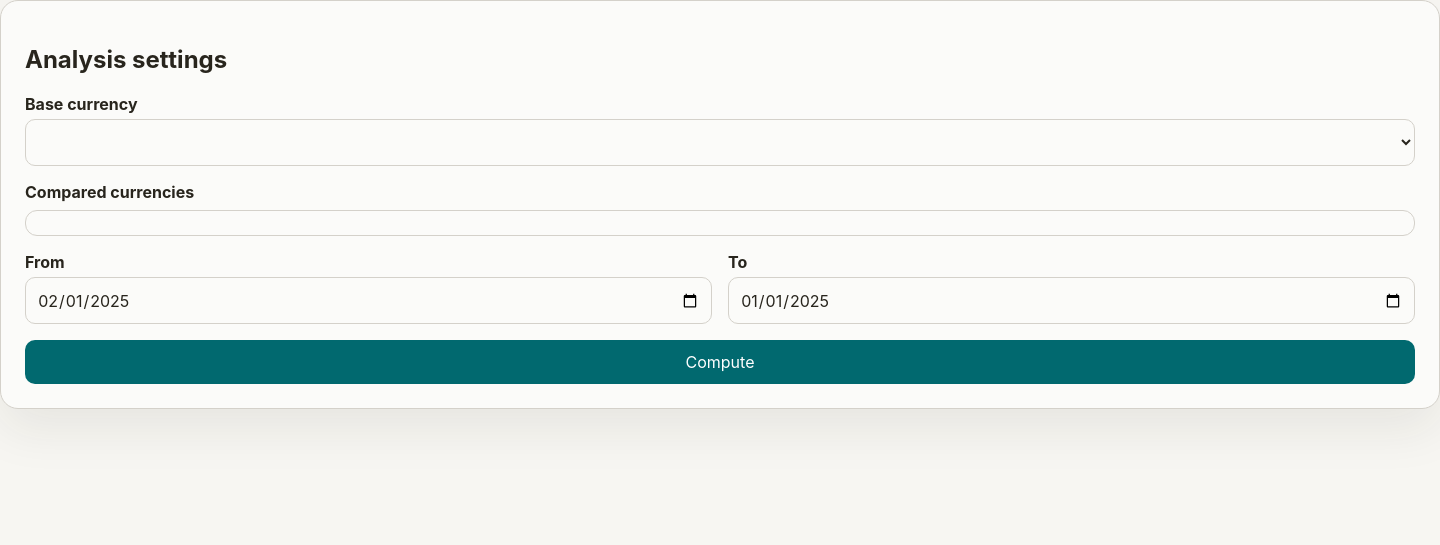
Test: AnalysisForm › shows translated error when end date is before start date
Click the button "Compute": x=720, y=362 [25,340,1415,384]
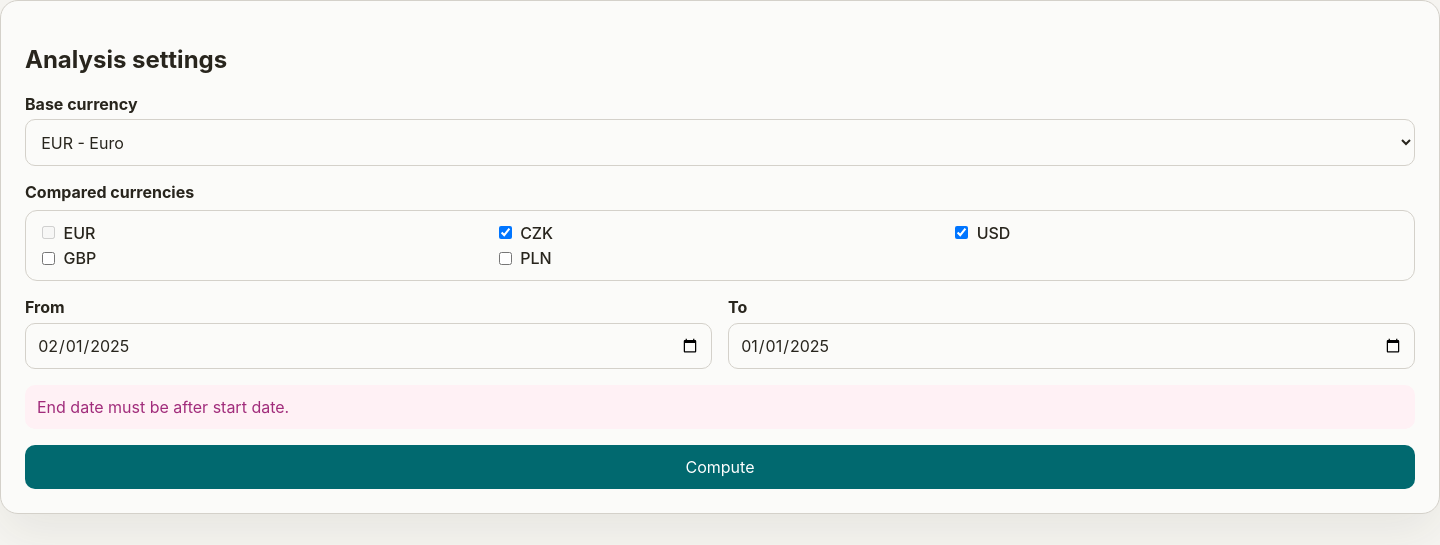
Expected: the text "End date must be after start date." is shown, [25,385,1415,429]
